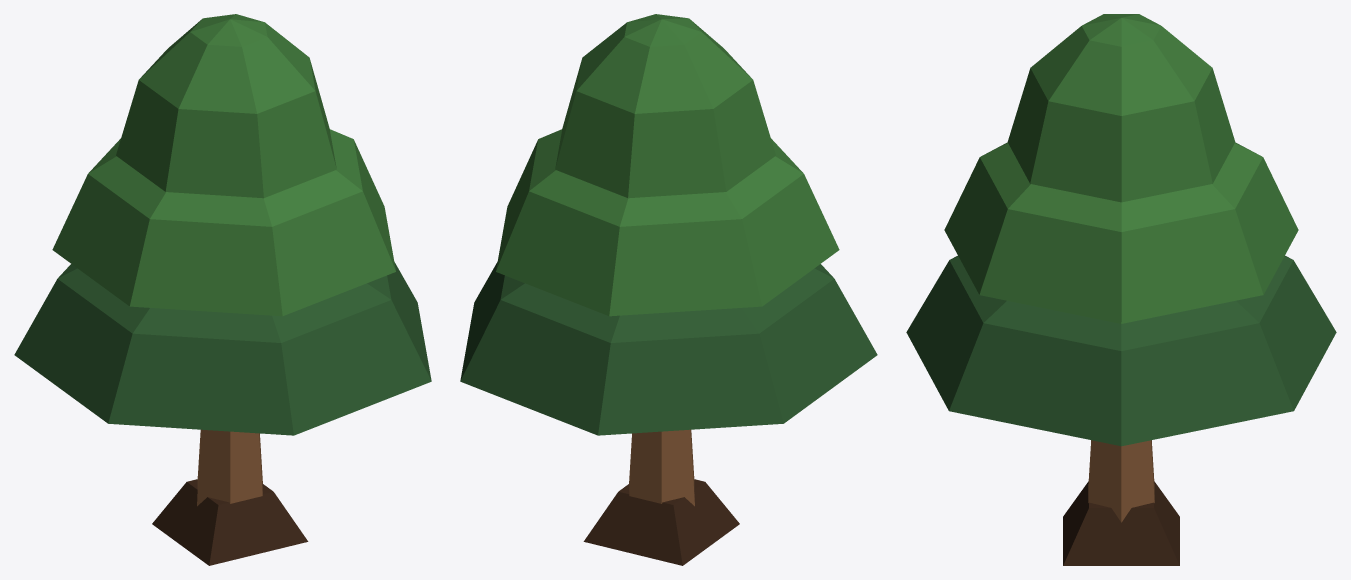
The model's file is tree_round.fbx.
3 views of the same model, side by side, from view 1: azimuth 30°, elevation 25°; view 2: azimuth 150°, elevation 25°; view 3: azimuth 270°, elevation 25° (orthographic).
Visible parts, largest first — view 1: tree_round; view 2: tree_round; view 3: tree_round.
Part boxes in pixels (<box>): tree_round: <box>14,14,431,565</box>; tree_round: <box>460,14,877,565</box>; tree_round: <box>906,14,1336,565</box>.
Size of the model in its own units: 3.23 by 4.45 by 3.31.
